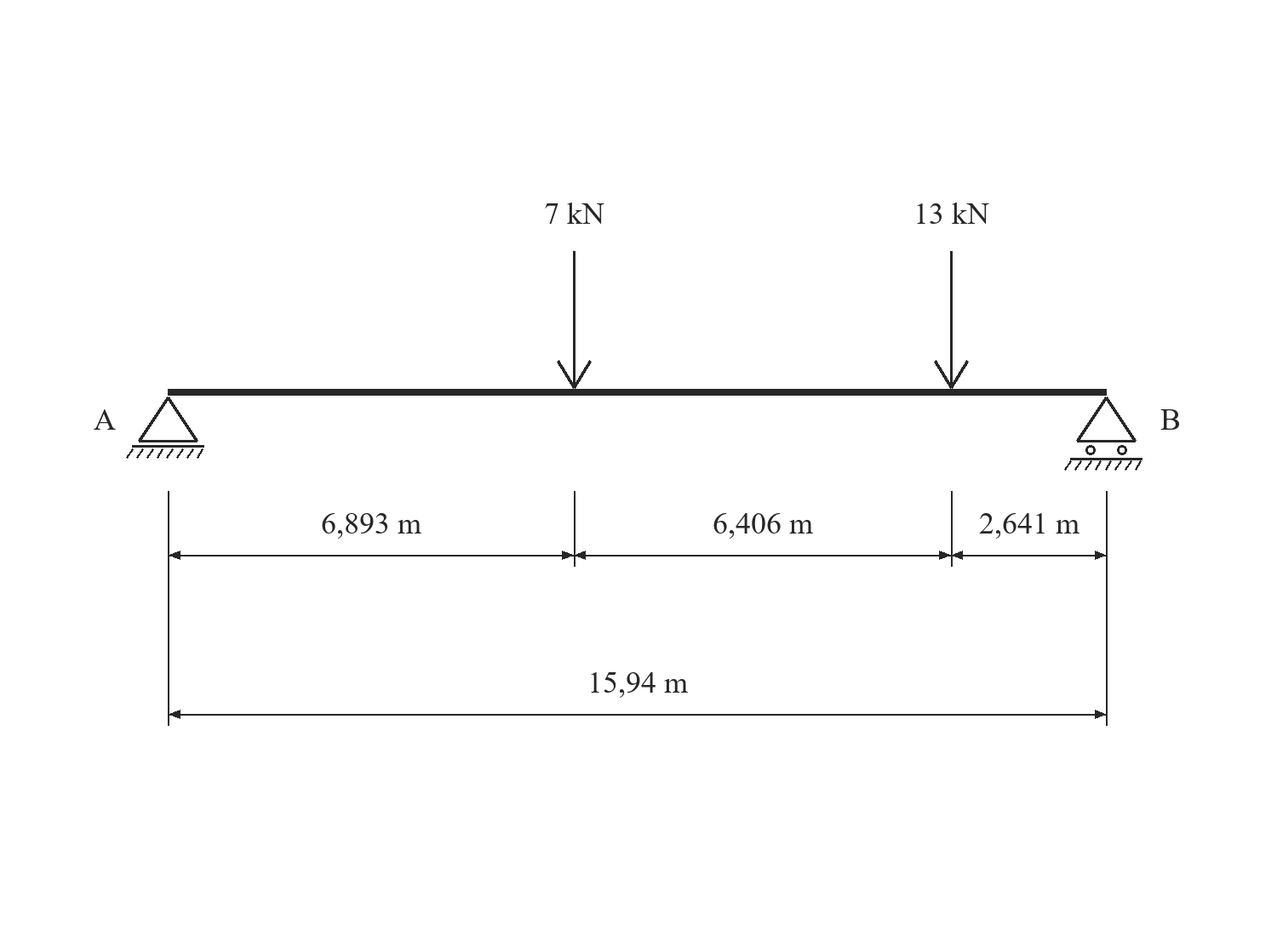pin_support: (126, 397, 204, 459)
point_load: (557, 251, 592, 389), (934, 251, 969, 389)
roller_support: (1064, 397, 1142, 471)
